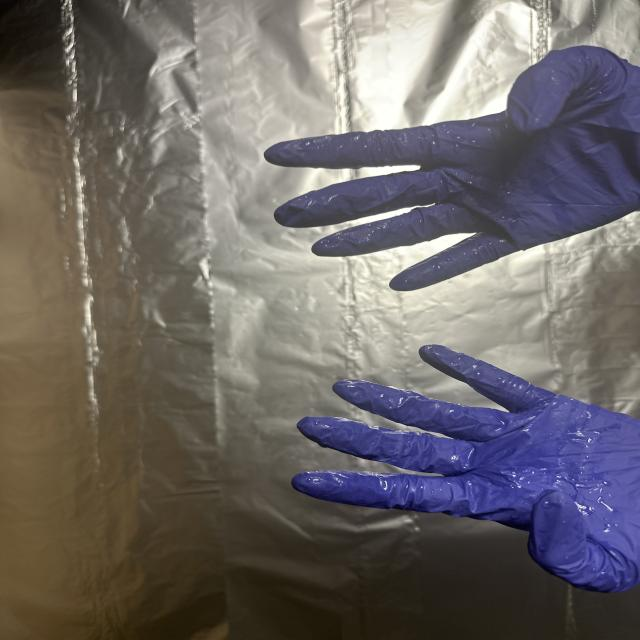gloves_contaminated: (264, 46, 640, 291), (292, 345, 640, 592)
